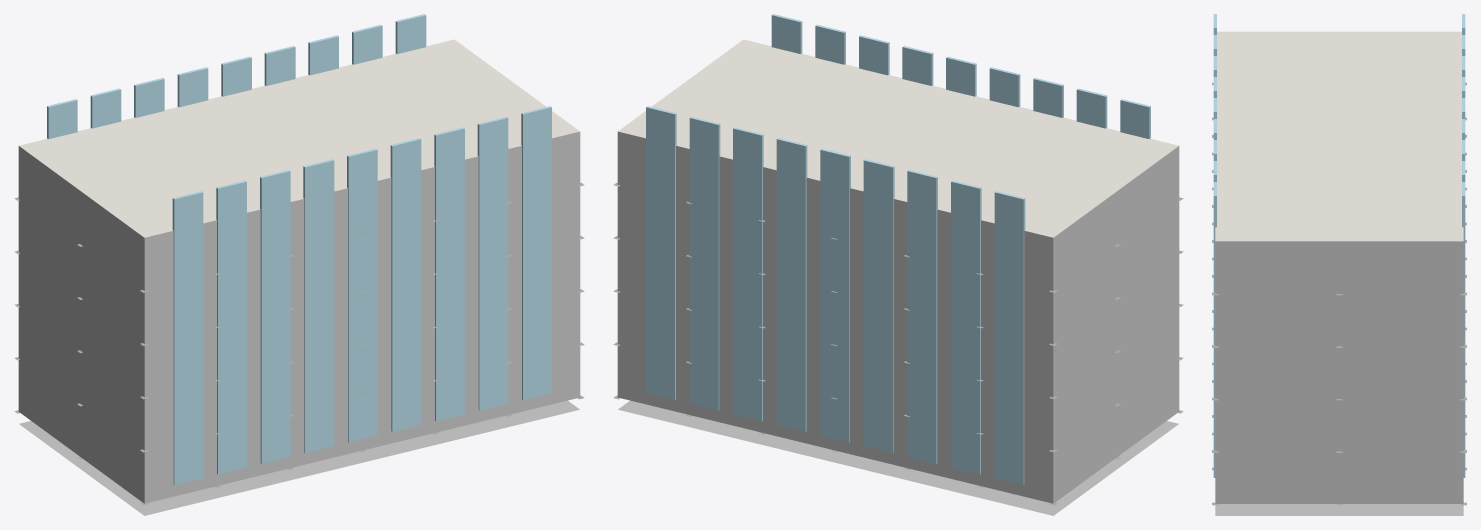
3 renders of one model, left to right at view 1: azimuth 30°, elevation 25°; view 2: azimuth 150°, elevation 25°; view 3: azimuth 270°, elevation 25°, orthographic.
Parts seen in each view (by area): view 1: 60d34767189a, 94c41011ed30, 6a7600c70e1d, 6799b4de4193, bb0a2ca16ba1, ba79c48e9341, 69464ded9429, dcd1826c6942, 1de3493a03e5, c58a248ce2c5, 7cb9ea530cb0, 9d7b94a54b21 (+90 smaller); view 2: 60d34767189a, 94c41011ed30, 6a7600c70e1d, b057ff7a80fe, 5af73bd1731e, 22e0bd8d4c72, 264a36b3bc10, 0acff0dd179b, 6580a339c751, 5332dbb155b9, 3425741cdae2, c582ca43e616 (+89 smaller); view 3: 60d34767189a, 94c41011ed30, 6a7600c70e1d, 19c6f83df0bf.
Part boxes in pixels (x1=…): 60d34767189a: x1=18, y1=131, x2=580, y2=503; 94c41011ed30: x1=19, y1=39, x2=579, y2=237; 6a7600c70e1d: x1=19, y1=400, x2=579, y2=515; 6799b4de4193: x1=391, y1=382, x2=421, y2=431; bb0a2ca16ba1: x1=304, y1=403, x2=334, y2=453; ba79c48e9341: x1=173, y1=436, x2=203, y2=484; 69464ded9429: x1=260, y1=414, x2=290, y2=463; dcd1826c6942: x1=260, y1=361, x2=290, y2=410; 1de3493a03e5: x1=522, y1=350, x2=551, y2=399; c58a248ce2c5: x1=217, y1=425, x2=246, y2=474; 7cb9ea530cb0: x1=391, y1=170, x2=421, y2=218; 9d7b94a54b21: x1=435, y1=318, x2=464, y2=367; 60d34767189a: x1=617, y1=131, x2=1179, y2=503; 94c41011ed30: x1=618, y1=39, x2=1178, y2=237; 6a7600c70e1d: x1=618, y1=400, x2=1178, y2=515; b057ff7a80fe: x1=994, y1=191, x2=1025, y2=241; 5af73bd1731e: x1=863, y1=403, x2=893, y2=453; 22e0bd8d4c72: x1=776, y1=382, x2=806, y2=431; 264a36b3bc10: x1=907, y1=414, x2=937, y2=463; 0acff0dd179b: x1=994, y1=435, x2=1024, y2=484; 6580a339c751: x1=689, y1=361, x2=719, y2=410; 5332dbb155b9: x1=646, y1=350, x2=675, y2=399; 3425741cdae2: x1=776, y1=299, x2=806, y2=347; c582ca43e616: x1=951, y1=425, x2=980, y2=474; 60d34767189a: x1=1215, y1=241, x2=1463, y2=503; 94c41011ed30: x1=1215, y1=31, x2=1463, y2=241; 6a7600c70e1d: x1=1215, y1=504, x2=1463, y2=515; 19c6f83df0bf: x1=1212, y1=82, x2=1466, y2=505.
Bounding box in the file's own units: 30.4 × 20.4 × 15.4.
